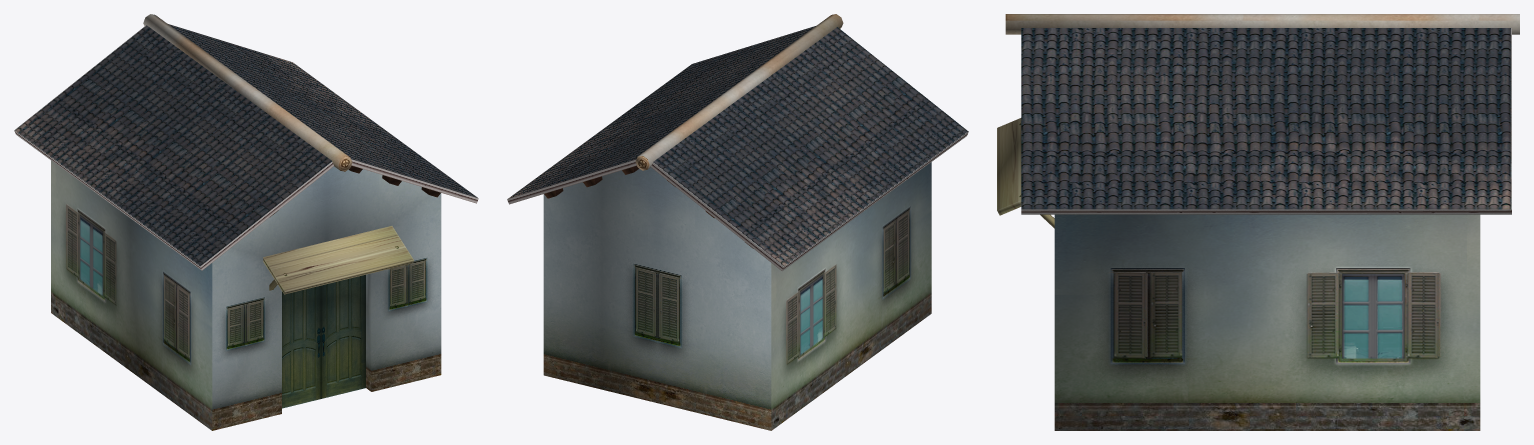
File: FFP_House_04.fbx
3 renders of one model, left to right at view 1: azimuth 30°, elevation 25°; view 2: azimuth 150°, elevation 25°; view 3: azimuth 270°, elevation 25°, orthographic. The views are drawn at different scales.
Parts seen in each view (by area): view 1: polySurface264; view 2: polySurface264; view 3: polySurface264.
Part boxes in pixels (x1,y1,x2,y2): polySurface264: (14,14,478,430); polySurface264: (507,14,968,430); polySurface264: (997,14,1519,430).
Size of the model in its own units: 14.13 by 12.6 by 17.4.
